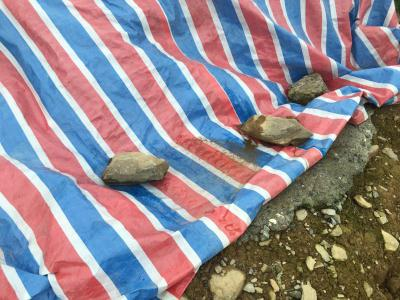plastic_bag: (2, 1, 397, 140), (1, 141, 248, 300)
